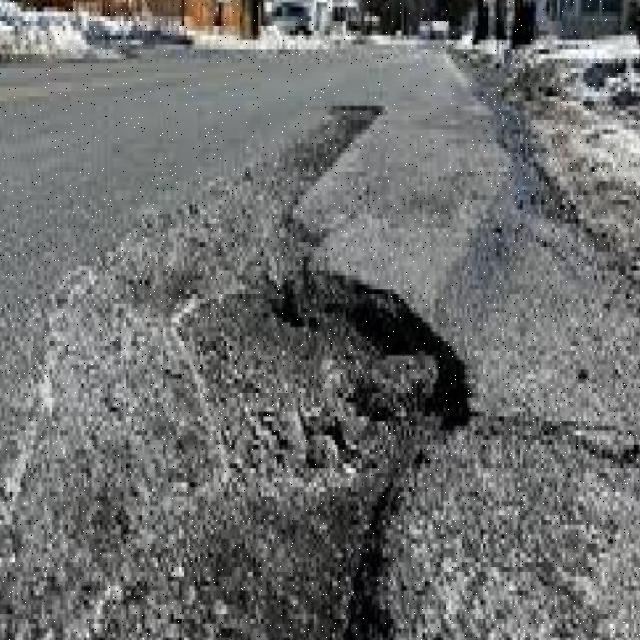pothole: (0, 120, 443, 640)
